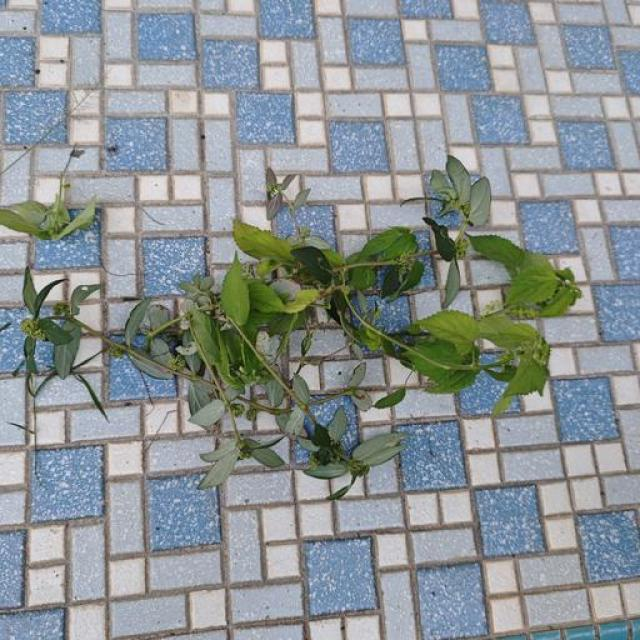organic: (20, 157, 579, 499), (469, 235, 581, 317), (0, 177, 96, 239), (347, 228, 418, 289), (493, 354, 548, 414), (418, 310, 478, 352), (234, 220, 291, 262), (469, 235, 524, 276), (478, 314, 541, 349), (507, 263, 558, 304), (220, 255, 249, 326), (358, 228, 417, 259), (53, 199, 96, 239), (130, 340, 172, 379), (199, 449, 239, 489), (507, 355, 548, 394), (189, 309, 219, 362), (353, 433, 406, 463), (54, 322, 81, 379), (292, 247, 332, 284), (75, 374, 107, 419), (424, 218, 454, 261), (248, 280, 284, 313), (0, 209, 42, 237), (125, 299, 151, 344), (447, 155, 471, 202), (34, 279, 66, 314), (469, 178, 491, 226), (189, 399, 226, 427), (39, 318, 72, 346), (363, 445, 404, 467), (69, 284, 99, 313), (200, 439, 237, 462), (443, 260, 461, 307), (285, 289, 319, 313), (250, 448, 284, 468), (328, 407, 347, 442), (305, 463, 348, 478), (23, 268, 37, 314), (374, 388, 406, 408), (284, 407, 304, 436), (293, 374, 311, 404), (430, 170, 453, 192), (349, 362, 366, 387)
